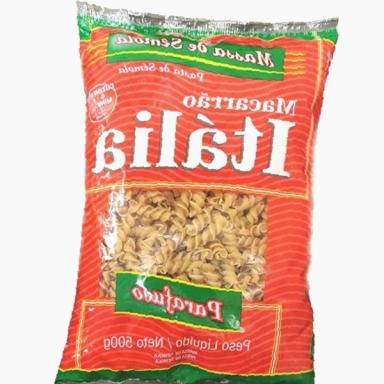pasta package: (56, 3, 337, 383)
